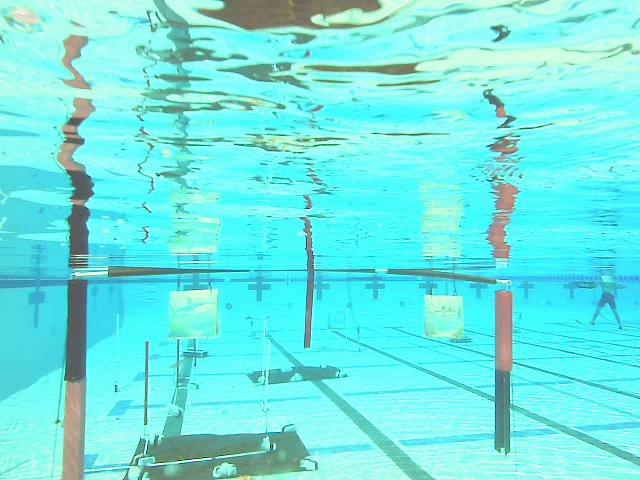black_poster: (144, 338, 150, 424)
divider: (303, 272, 315, 346)
left_gate_poster: (65, 280, 85, 480)
right_gate_poster: (494, 292, 510, 454)
shark: (171, 291, 218, 339)
swordfish: (425, 295, 465, 339)
white_poster: (48, 339, 68, 479), (261, 339, 272, 413), (113, 315, 119, 393)
